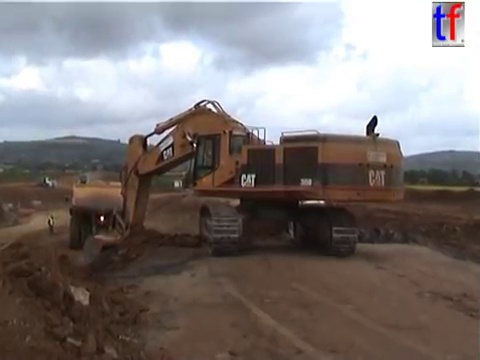excavator: (80, 97, 408, 269)
truck: (63, 178, 140, 250), (179, 169, 202, 191), (36, 175, 58, 189)
worker: (45, 213, 56, 235)
